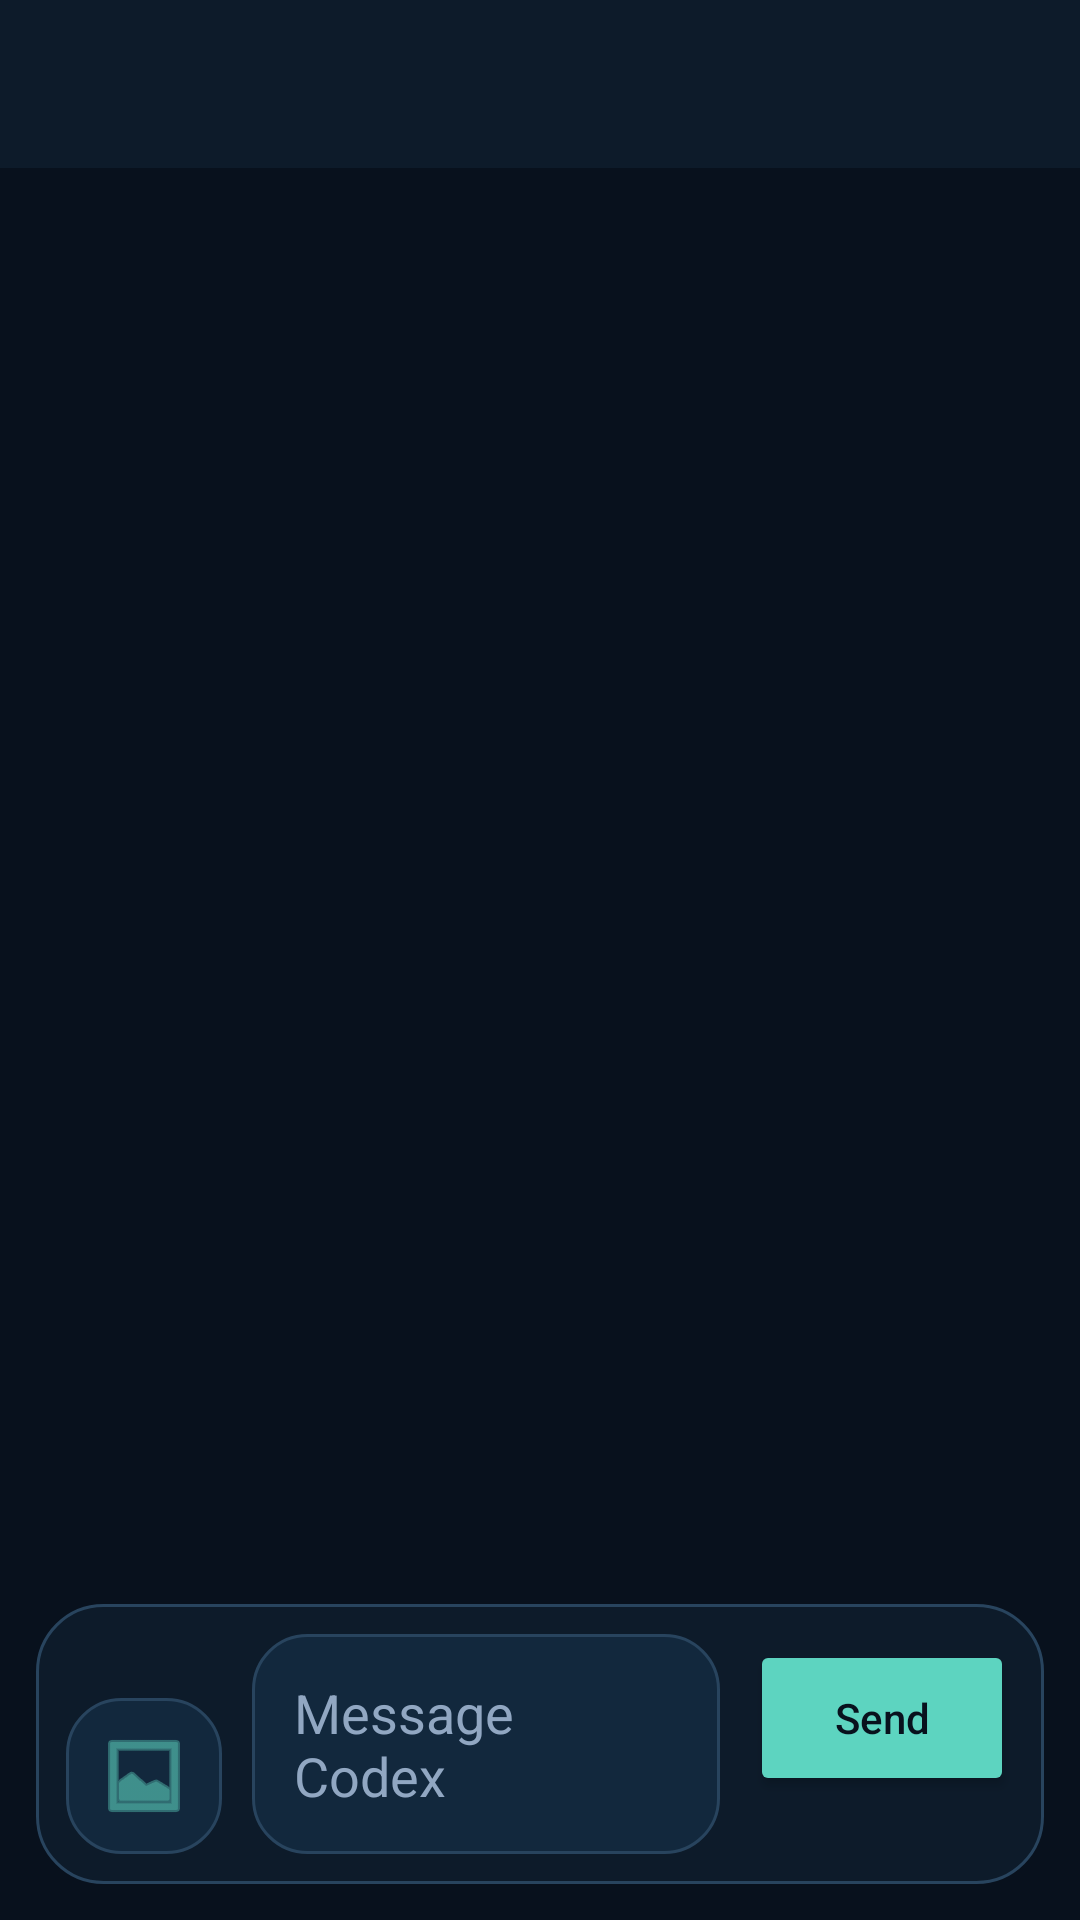

Icon bounding boxes for this 1080*1920 phone screenshot, format [x1,y1,x2,y2]:
gallery: [66,1698,222,1854]
